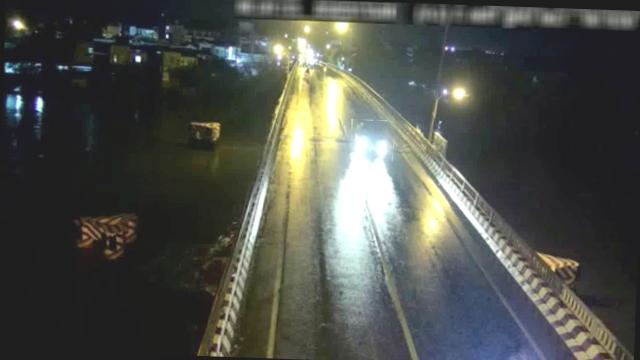Bike: (350, 119, 394, 161), (302, 66, 313, 82)
